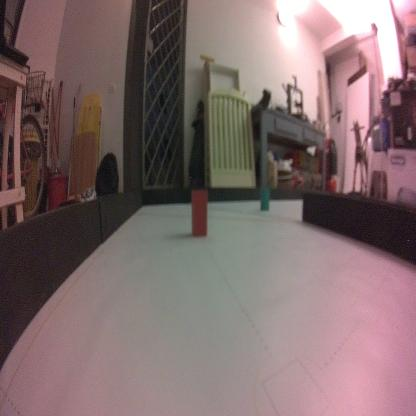green: (260, 185, 270, 211)
red: (190, 185, 210, 238)
